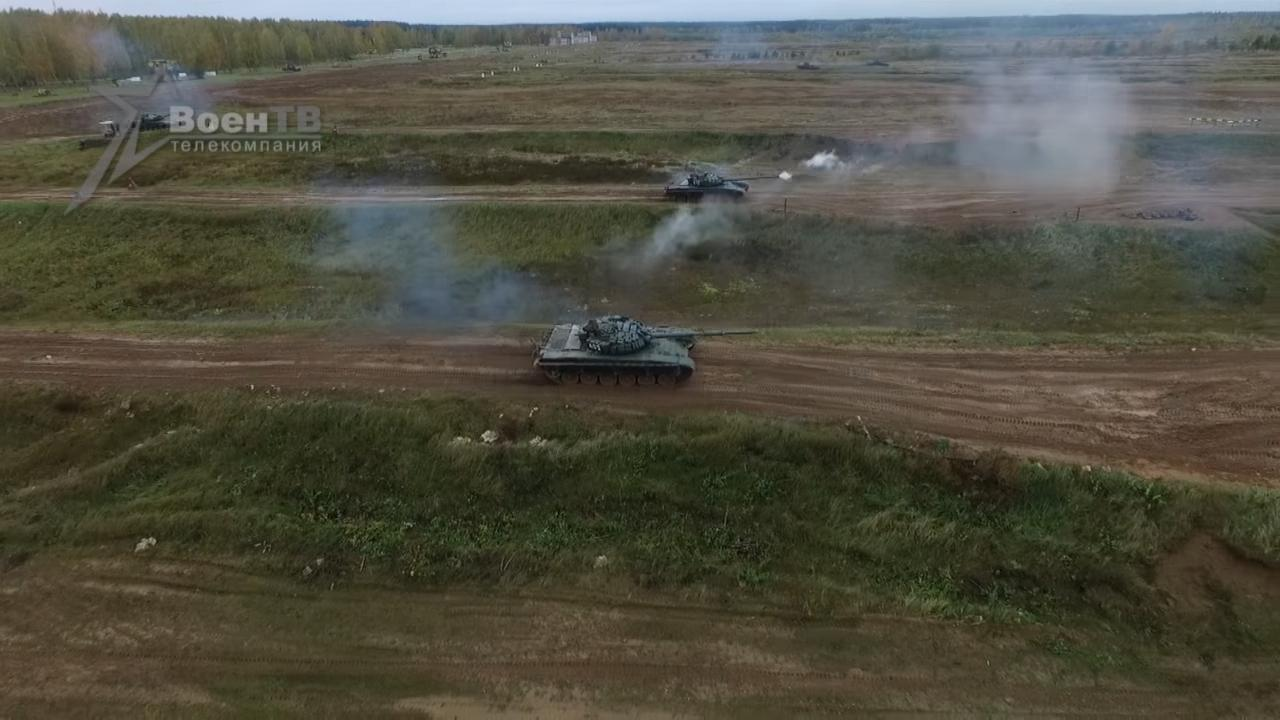tank: (532, 314, 753, 387), (665, 171, 760, 202), (128, 112, 181, 131)
